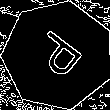P_SE: (26, 25, 89, 85)
